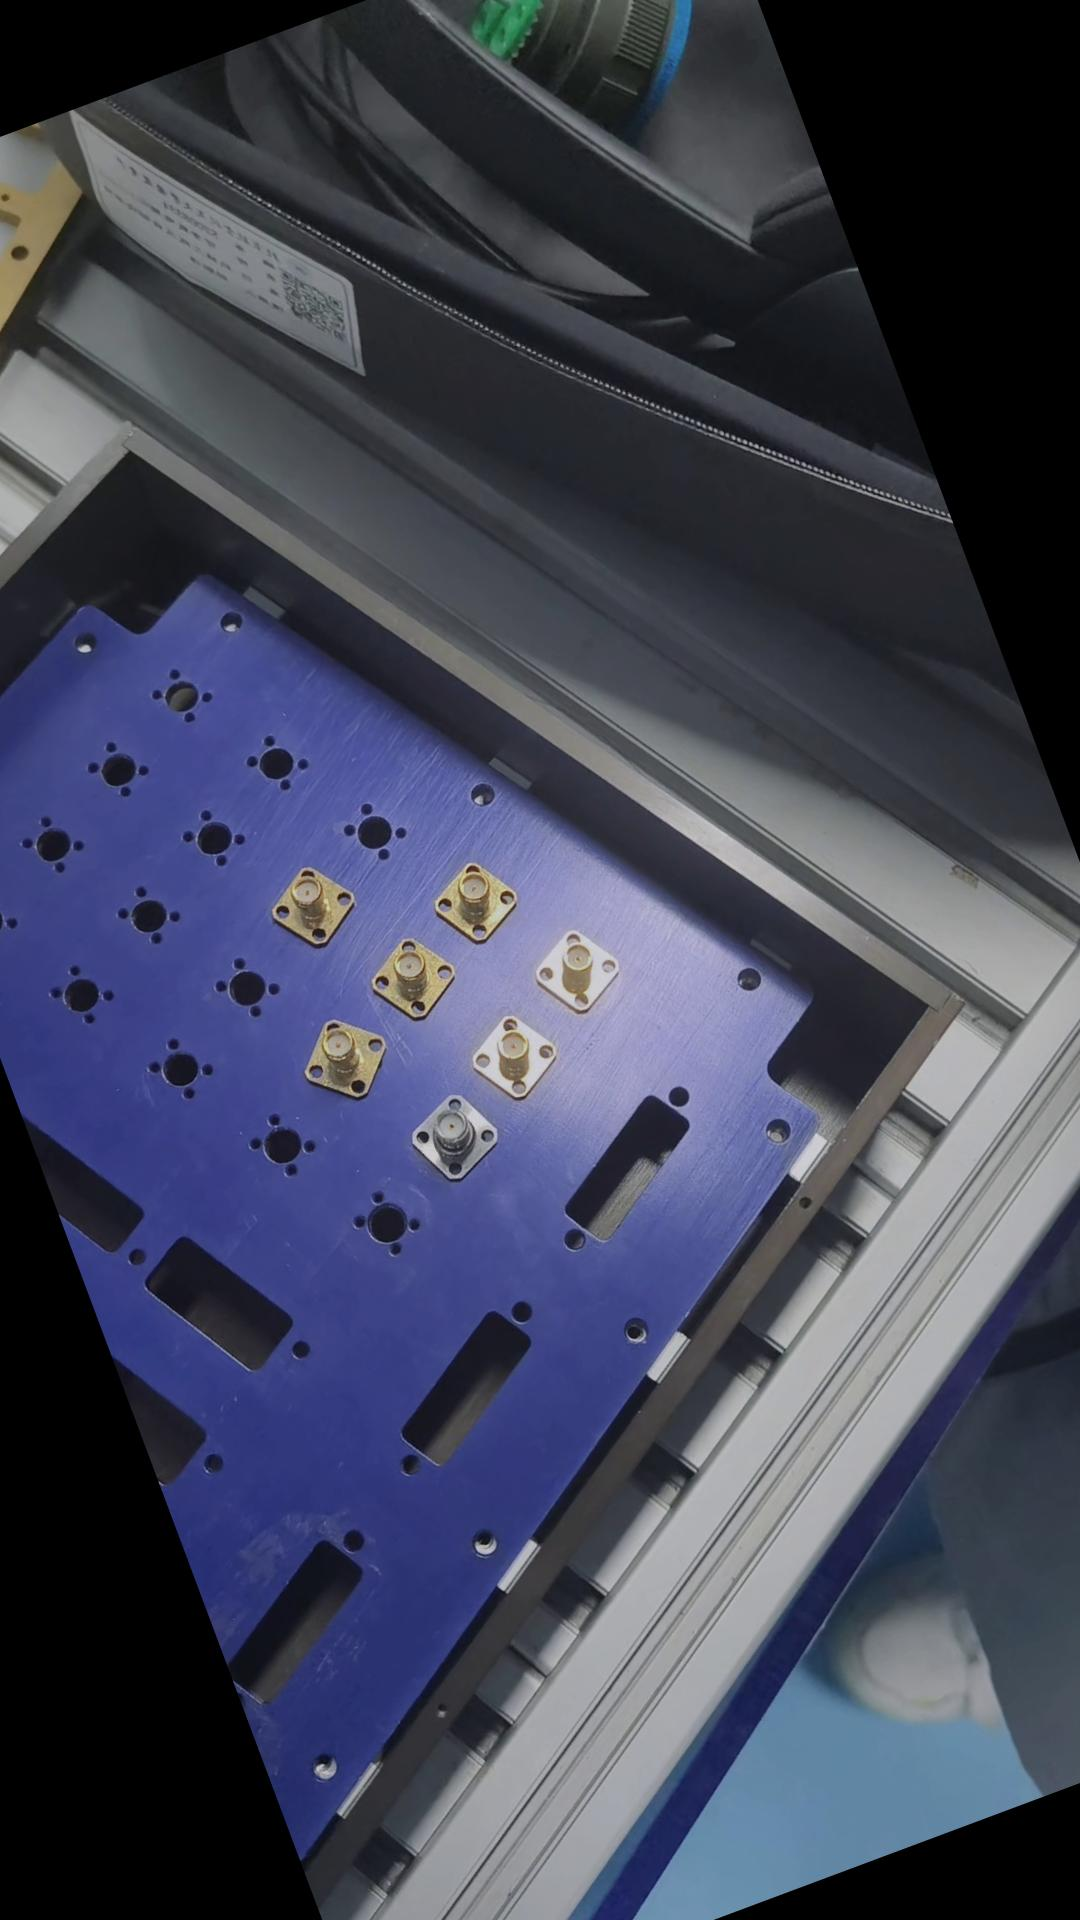SMA: (397, 1081, 509, 1197), (284, 1005, 396, 1116), (353, 922, 460, 1034), (454, 1002, 559, 1112), (257, 856, 365, 961), (418, 849, 522, 956), (524, 916, 626, 1025)
